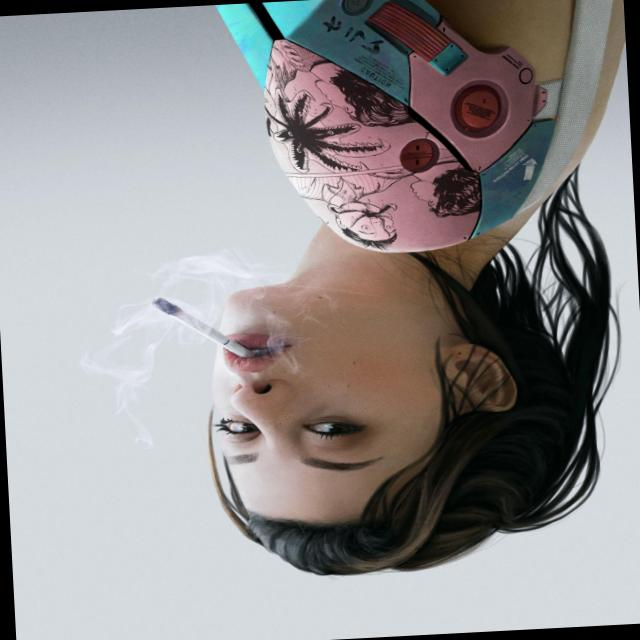cigarette: (112, 273, 298, 386)
